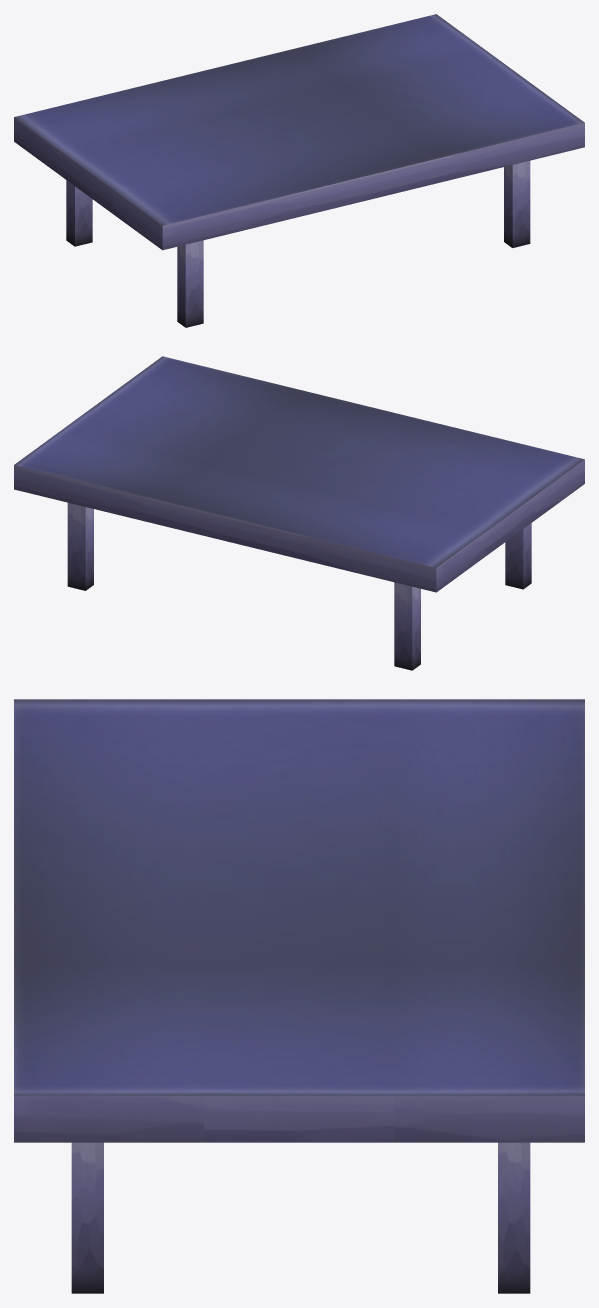
The model's file is table3m.DAE.
3 renders of one model, top to bottom at view 1: azimuth 30°, elevation 25°; view 2: azimuth 150°, elevation 25°; view 3: azimuth 270°, elevation 25°, orthographic. The views are drawn at different scales.
Visible parts, largest first — view 1: Box03; view 2: Box03; view 3: Box03.
Boxes of the visible parts, x1,y1,x2,y2 form: Box03: (14, 14, 584, 327); Box03: (14, 356, 584, 670); Box03: (14, 699, 584, 1293).
Size of the model in its own units: 3.16 by 0.8756 by 1.93.
